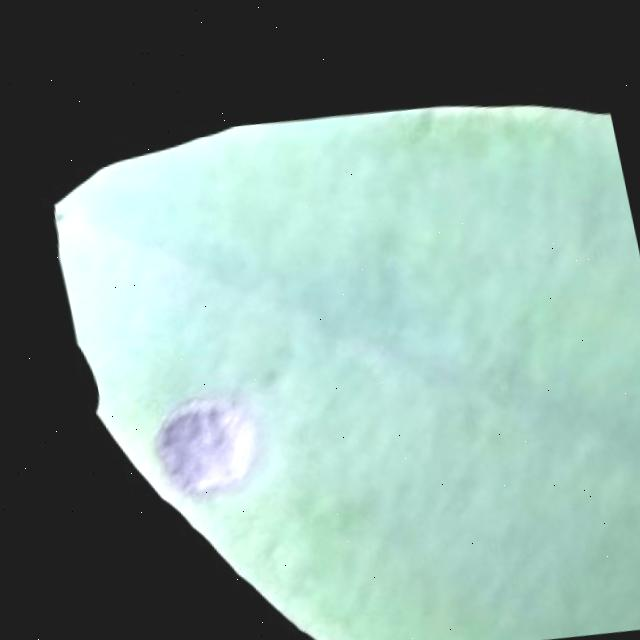mite: (133, 379, 324, 640), (395, 100, 437, 142)
sunburn: (134, 384, 267, 502)
